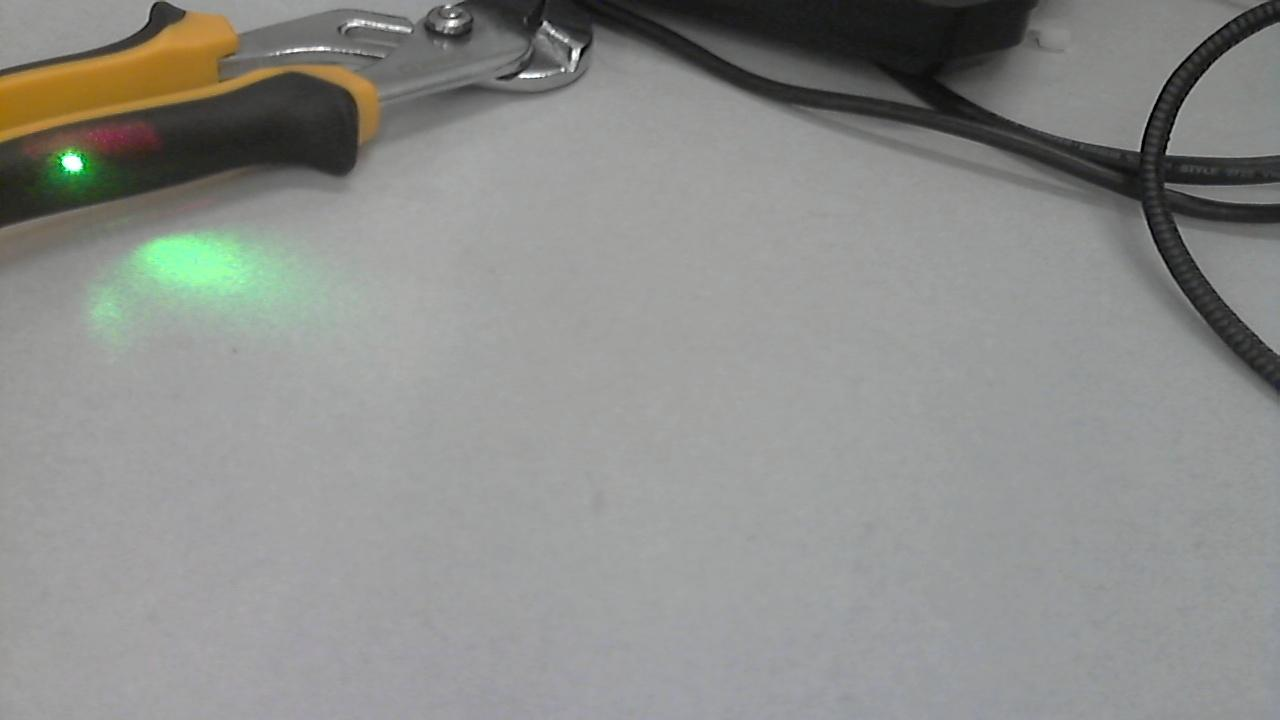Object slip joint pliers - Material plastic - Color yellow - Pdfname favaeaevcsr: (16, 116, 167, 190)
